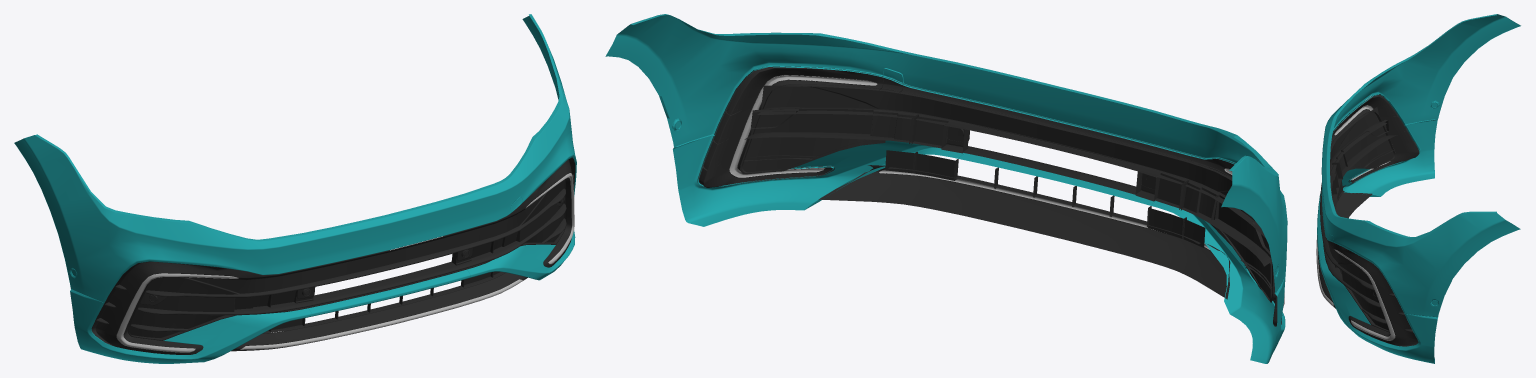
3 renders of one model, left to right at view 1: azimuth 30°, elevation 25°; view 2: azimuth 150°, elevation 25°; view 3: azimuth 270°, elevation 25°, orthographic. The views are drawn at different scales.
Parts seen in each view (by area): view 1: front bumper 1; view 2: front bumper 1; view 3: front bumper 1.
Part boxes in pixels (left/top/right/bottom): front bumper 1: left=14, top=14, right=576, bottom=363; front bumper 1: left=605, top=14, right=1287, bottom=363; front bumper 1: left=1316, top=14, right=1520, bottom=363.
Size of the model in its own units: 1.89 by 0.6723 by 0.8057.
